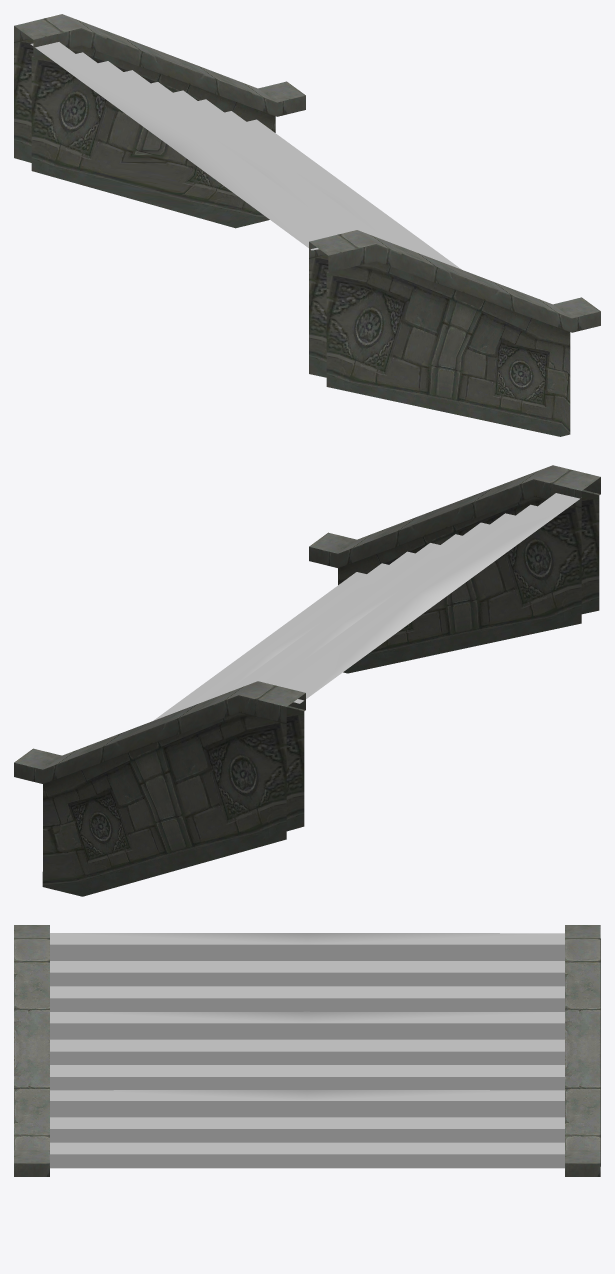
File: s7_3d_city_taizi_xx02.FBX
3 renders of one model, top to bottom at view 1: azimuth 30°, elevation 25°; view 2: azimuth 150°, elevation 25°; view 3: azimuth 270°, elevation 25°, orthographic. The views are drawn at different scales.
Parts seen in each view (by area): view 1: S7_3d_pve106_taijie07, S7_3d_pve106_taijie009, S7_3d_pve106_taijie008, S7_3d_pve106_taijie06; view 2: S7_3d_pve106_taijie07, S7_3d_pve106_taijie009, S7_3d_pve106_taijie008, S7_3d_pve106_taijie06; view 3: S7_3d_pve106_taijie06, S7_3d_pve106_taijie009, S7_3d_pve106_taijie008, S7_3d_pve106_taijie07.
Boxes of the visible parts, bbox=[...] form: S7_3d_pve106_taijie07: bbox=[14, 14, 600, 436]; S7_3d_pve106_taijie009: bbox=[30, 42, 343, 250]; S7_3d_pve106_taijie008: bbox=[124, 70, 391, 242]; S7_3d_pve106_taijie06: bbox=[198, 99, 461, 269]; S7_3d_pve106_taijie07: bbox=[14, 465, 600, 896]; S7_3d_pve106_taijie009: bbox=[271, 493, 579, 703]; S7_3d_pve106_taijie008: bbox=[224, 522, 489, 693]; S7_3d_pve106_taijie06: bbox=[153, 551, 415, 720]; S7_3d_pve106_taijie06: bbox=[50, 1090, 564, 1168]; S7_3d_pve106_taijie009: bbox=[50, 933, 564, 1011]; S7_3d_pve106_taijie008: bbox=[50, 1011, 564, 1090]; S7_3d_pve106_taijie07: bbox=[14, 925, 600, 1176].
Size of the model in its own units: 3.88 by 3.25 by 7.74.
